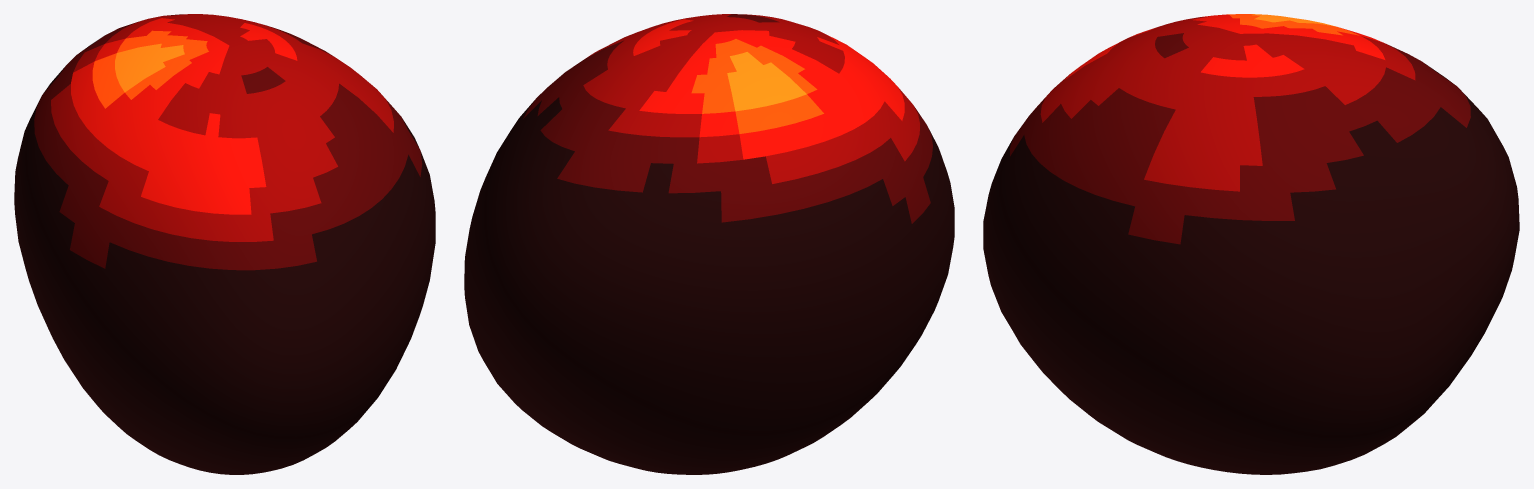
The model's file is red_ember_38.glb.
3 renders of one model, left to right at view 1: azimuth 30°, elevation 25°; view 2: azimuth 150°, elevation 25°; view 3: azimuth 270°, elevation 25°, orthographic. The views are drawn at different scales.
Parts seen in each view (by area): view 1: red_ember_38; view 2: red_ember_38; view 3: red_ember_38.
Part boxes in pixels (x1,y1,x2,y2): red_ember_38: (14, 14, 435, 474); red_ember_38: (464, 14, 954, 474); red_ember_38: (983, 14, 1519, 474).
Size of the model in its own units: 8.97 by 9.4 by 10.86.
